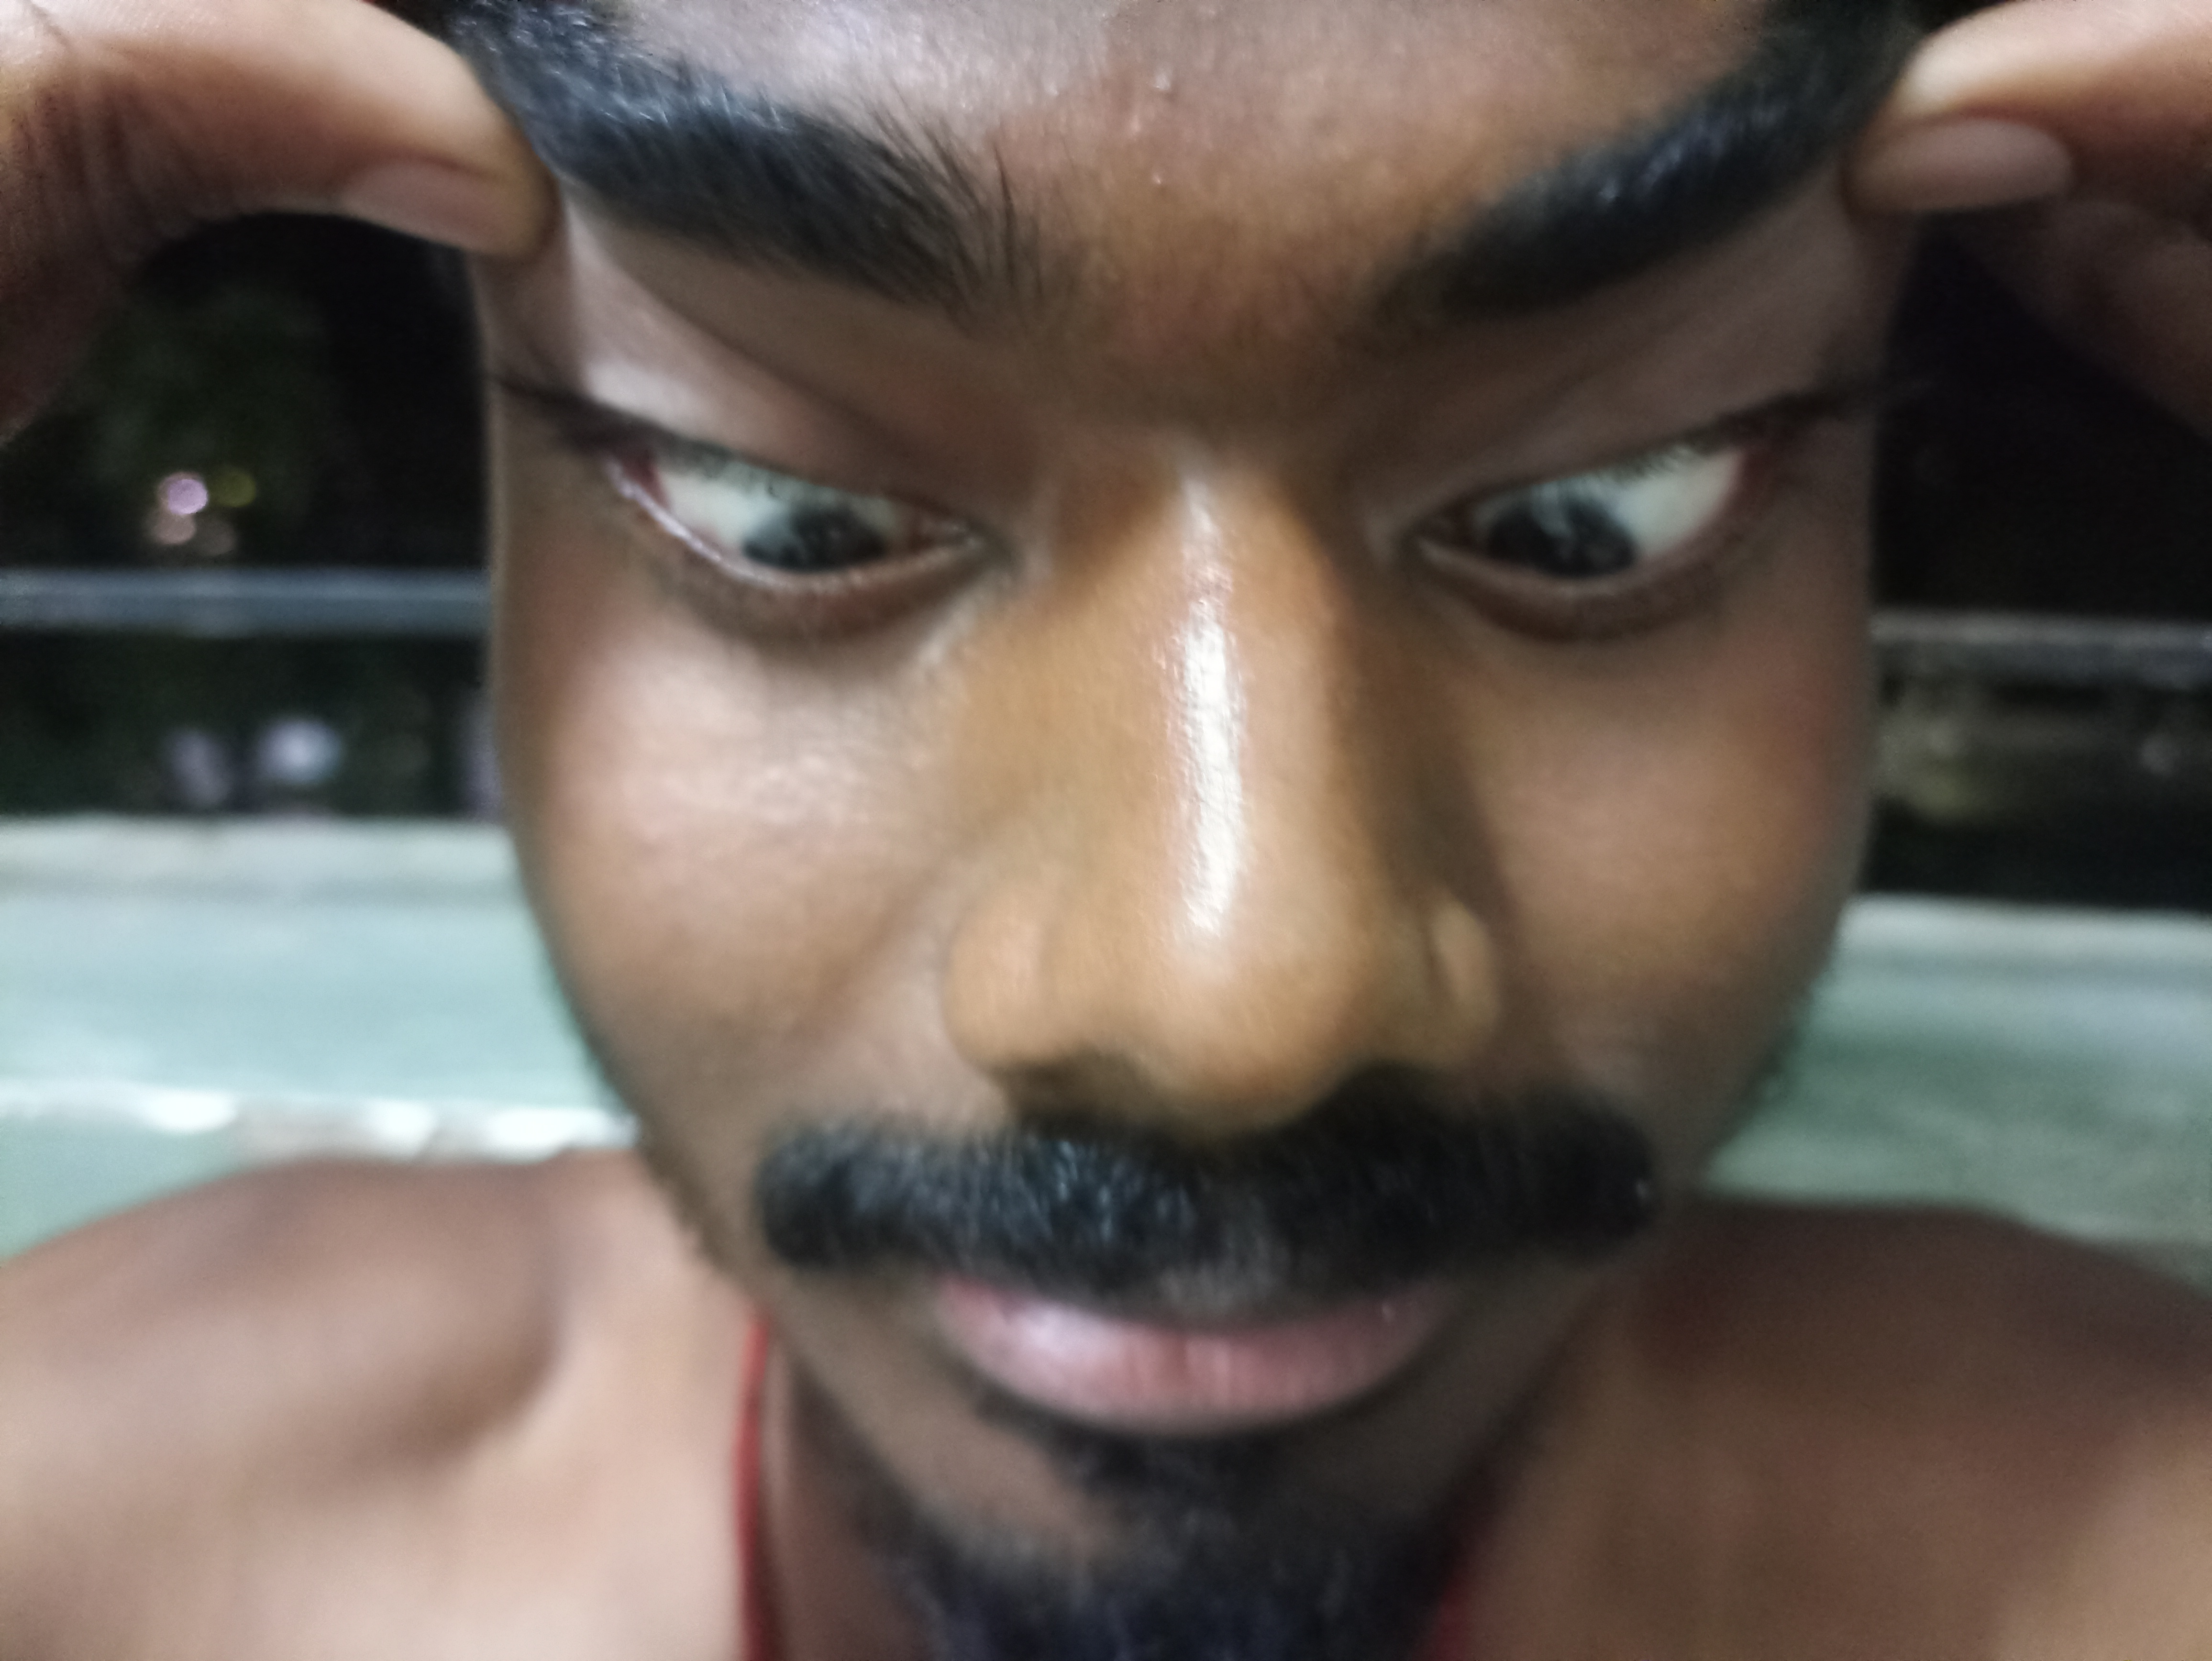EYE DOWN: (394, 225, 1099, 830), (1261, 230, 1889, 832)
